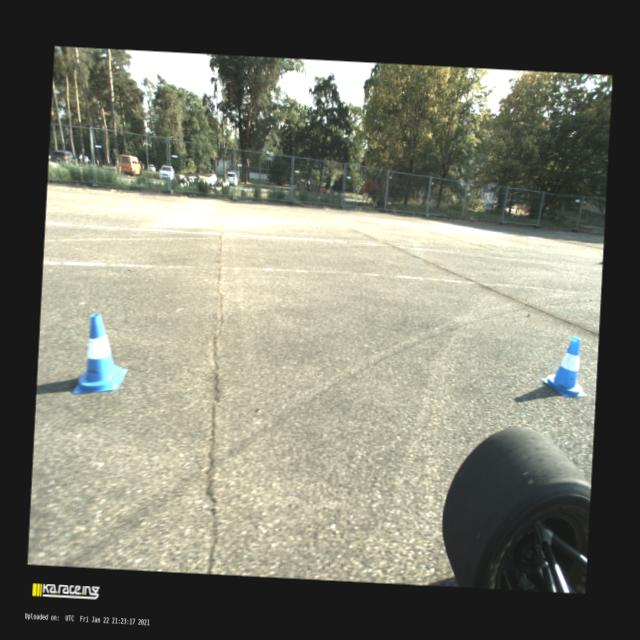blue_cone: (73, 313, 130, 397), (540, 334, 590, 398)
